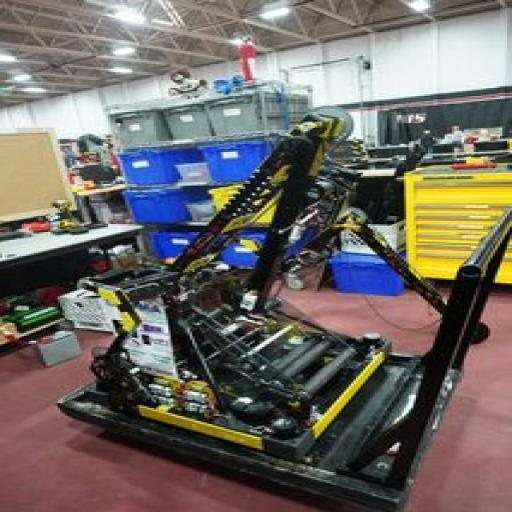robot: (88, 104, 392, 461)
